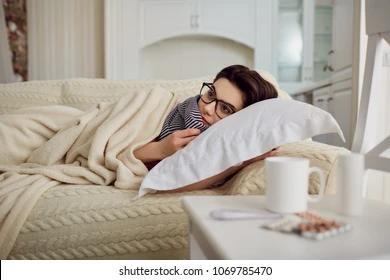blanket: (0, 84, 182, 259)
